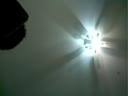window: (11, 44, 73, 96), (78, 60, 103, 75)
